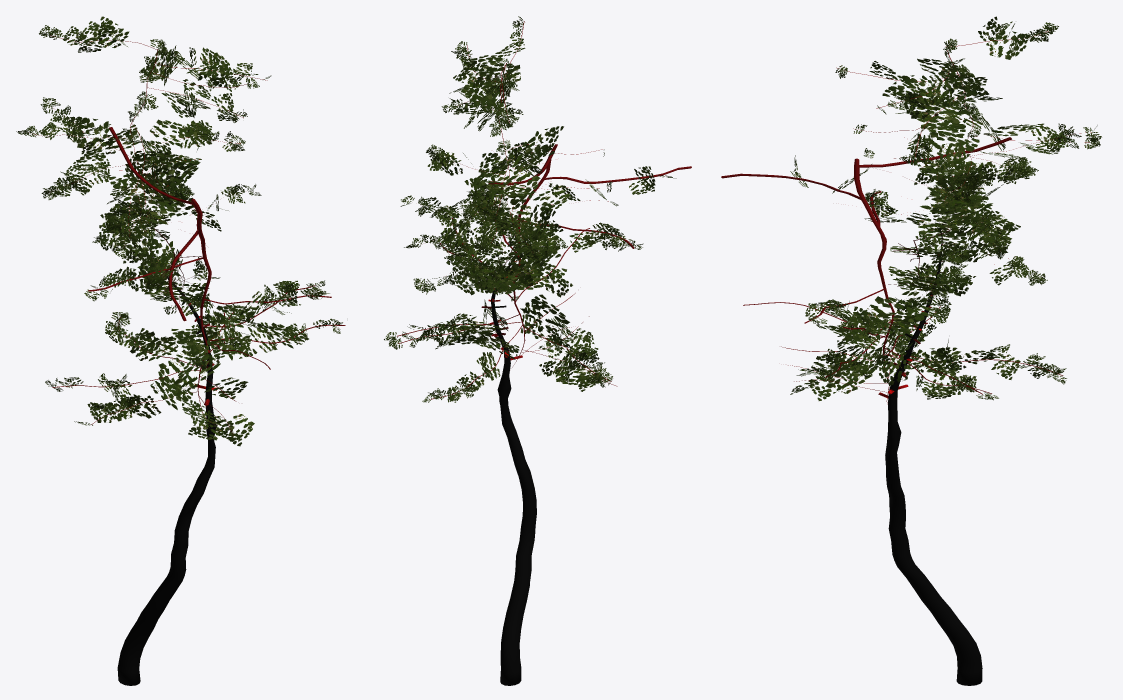
3 views of the same model, side by side, from view 1: azimuth 30°, elevation 25°; view 2: azimuth 150°, elevation 25°; view 3: azimuth 270°, elevation 25° (orthographic). The views are drawn at different scales.
Visible parts, largest first — view 1: Tree23; view 2: Tree23; view 3: Tree23.
Boxes of the visible parts, x1,y1,x2,y2 form: Tree23: [16, 16, 345, 685]; Tree23: [384, 16, 691, 685]; Tree23: [721, 16, 1101, 685].
Bounding box in the file's own units: 3.67 × 9.2 × 4.9.
